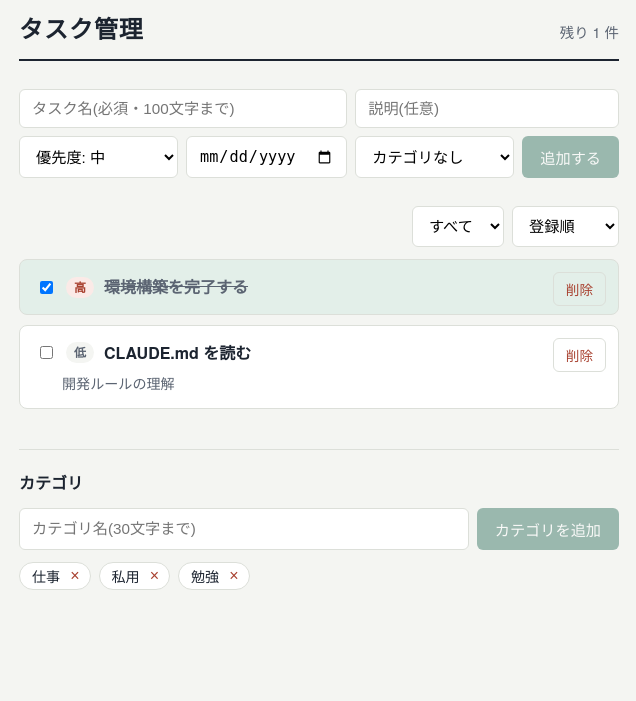
Scenario: 期限 › 追加フォームで期限を指定できる
This screenshot has width=636, height=701.
Expected: the text "環境構築を完了する" is shown, [104,274,248,300]
Type "期限付きタスク" into the field labelled "タスク名" at (183, 109), box [19,89,347,128]
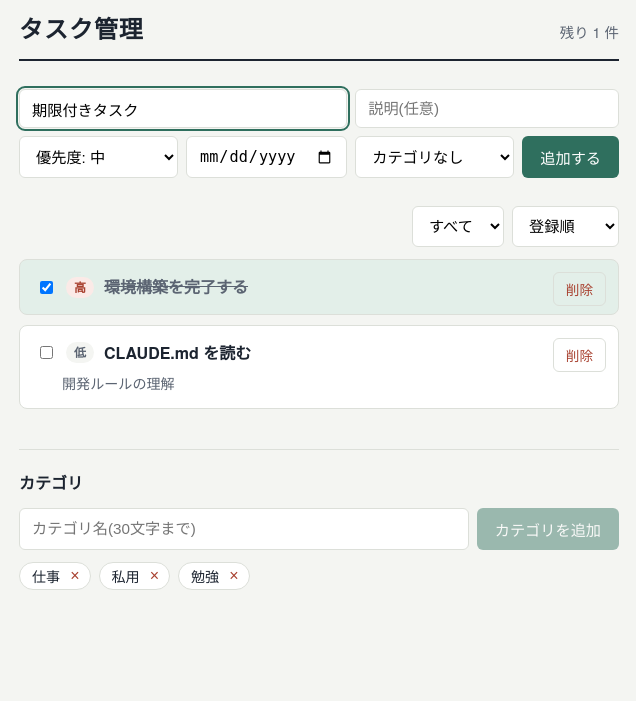
Type "2026-10-16" into the date field named "期限" at (267, 157), box [186,136,347,178]
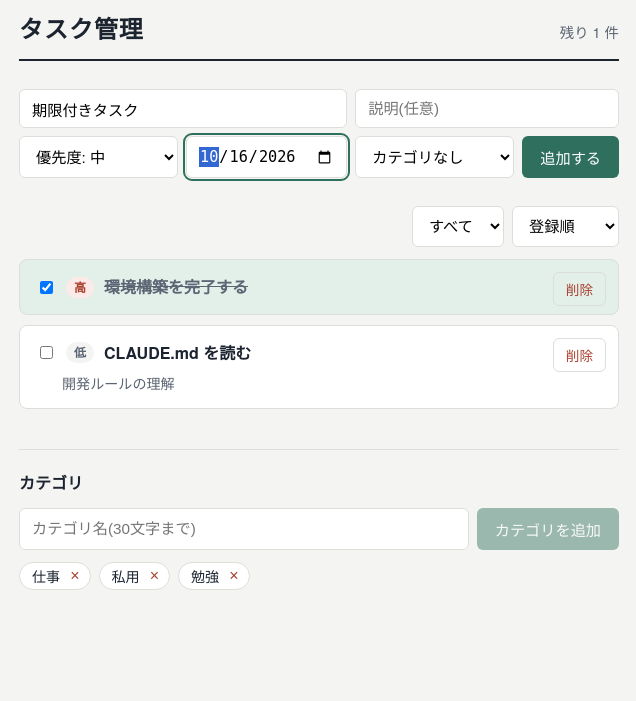
Click the button "追加する" at (571, 157), box [522,136,619,178]
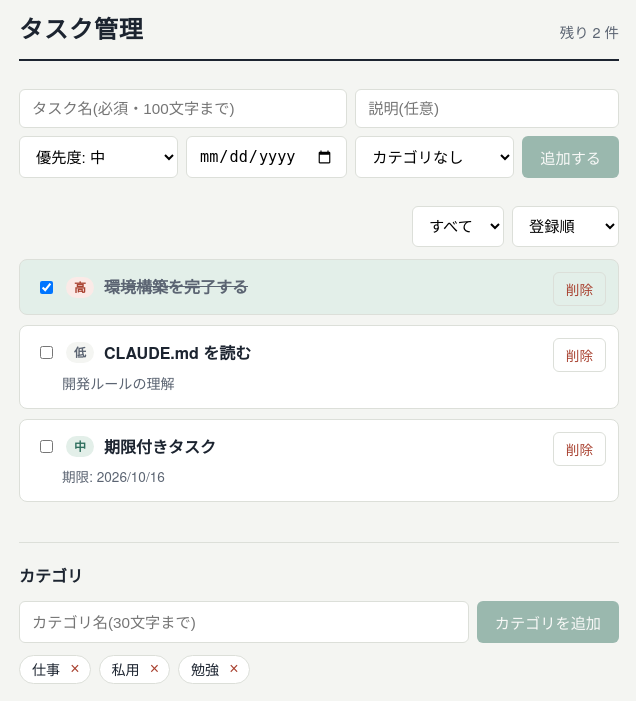
Now the text "期限付きタスク" is shown, box [104,434,216,460]
